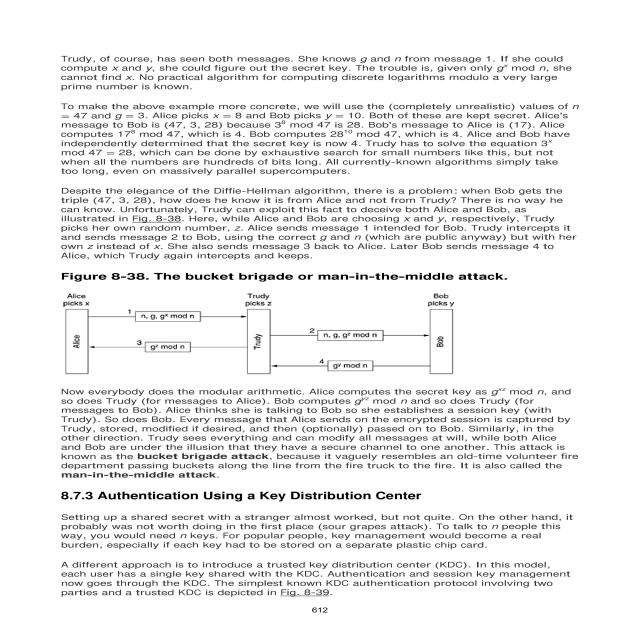diagram: (41, 262, 529, 378)
